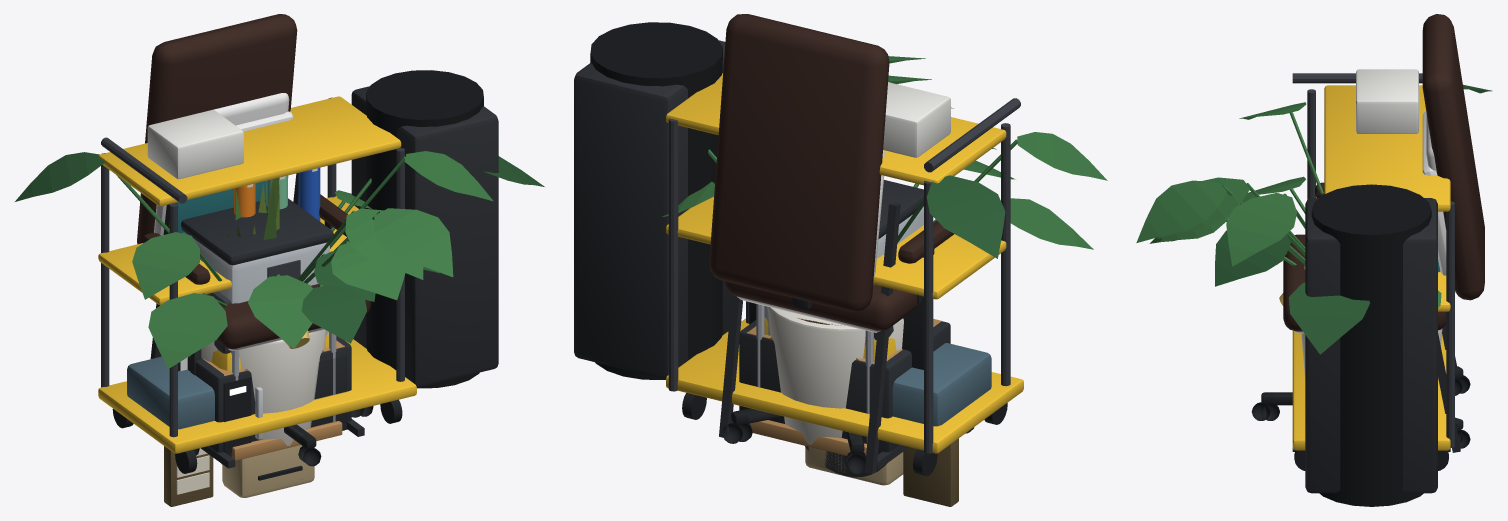
The model's file is Props.fbx.
3 renders of one model, left to right at view 1: azimuth 30°, elevation 25°; view 2: azimuth 150°, elevation 25°; view 3: azimuth 270°, elevation 25°, orthographic. The views are drawn at different scales.
Parts seen in each view (by area): view 1: PROP_janitor_cart, PROP_plant_monstera, PROP_chair_exec, PROP_bin_break, PROP_punch_clock, PROP_microwave, PROP_chair_guest, PROP_chair_break, PROP_chair_office, PROP_pizza_box, PROP_plant_snake, PROP_mop_bucket; view 2: PROP_janitor_cart, PROP_chair_exec, PROP_plant_monstera, PROP_chair_guest, PROP_microwave, PROP_punch_clock, PROP_bin_break, PROP_pizza_box, PROP_monitor, PROP_chair_break, PROP_chair_office; view 3: PROP_janitor_cart, PROP_plant_monstera, PROP_chair_exec, PROP_chair_guest, PROP_chair_office.
Part boxes in pixels (box(x1,y1,x2,y2)): PROP_janitor_cart: box(98, 70, 498, 473); PROP_plant_monstera: box(15, 151, 544, 445); PROP_chair_exec: box(137, 14, 373, 466); PROP_bin_break: box(181, 198, 333, 358); PROP_punch_clock: box(164, 445, 314, 506); PROP_microwave: box(187, 336, 351, 456); PROP_chair_guest: box(150, 111, 364, 468); PROP_chair_break: box(177, 181, 336, 421); PROP_chair_office: box(194, 93, 363, 462); PROP_pizza_box: box(231, 421, 342, 460); PROP_plant_snake: box(228, 177, 279, 239); PROP_mop_bucket: box(209, 291, 328, 370); PROP_janitor_cart: box(574, 22, 1023, 476); PROP_chair_exec: box(709, 14, 974, 474); PROP_plant_monstera: box(662, 56, 1107, 444); PROP_chair_guest: box(719, 150, 908, 473); PROP_microwave: box(739, 320, 950, 454); PROP_punch_clock: box(805, 438, 958, 506); PROP_bin_break: box(764, 180, 923, 358); PROP_pizza_box: box(749, 420, 866, 455); PROP_monitor: box(749, 296, 923, 369); PROP_chair_break: box(756, 304, 873, 443); PROP_chair_office: box(732, 295, 921, 462); PROP_janitor_cart: box(1292, 69, 1454, 506); PROP_plant_monstera: box(1136, 84, 1492, 379); PROP_chair_exec: box(1251, 14, 1484, 448); PROP_chair_guest: box(1292, 111, 1460, 452); PROP_chair_office: box(1261, 112, 1462, 442).
Bounding box in the file's own units: 1.67 × 1.51 × 1.13.
